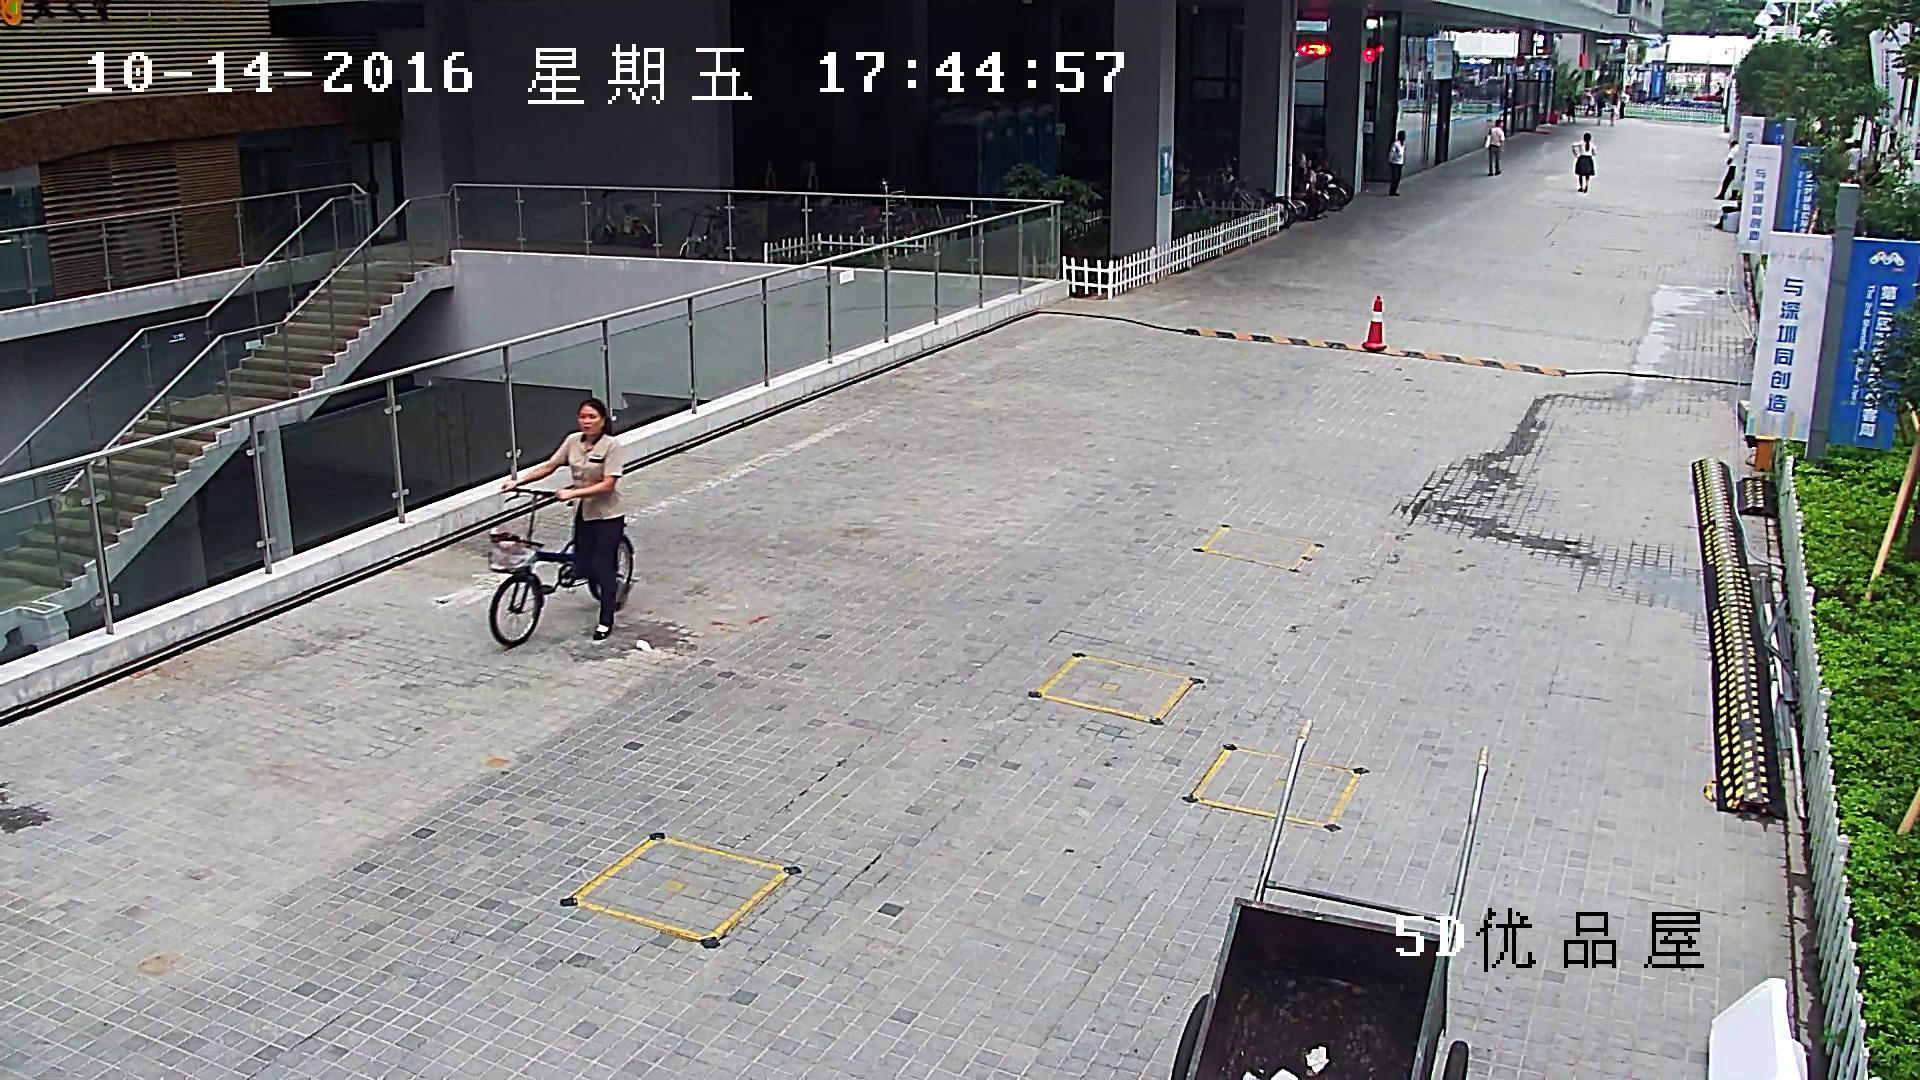person: (488, 398, 633, 644), (505, 398, 622, 642), (1571, 132, 1595, 194), (1716, 140, 1738, 200), (1386, 129, 1406, 196), (1486, 119, 1504, 174), (1844, 139, 1861, 178), (1585, 91, 1596, 117), (1566, 91, 1575, 125), (1618, 89, 1626, 120), (1597, 92, 1604, 125)
